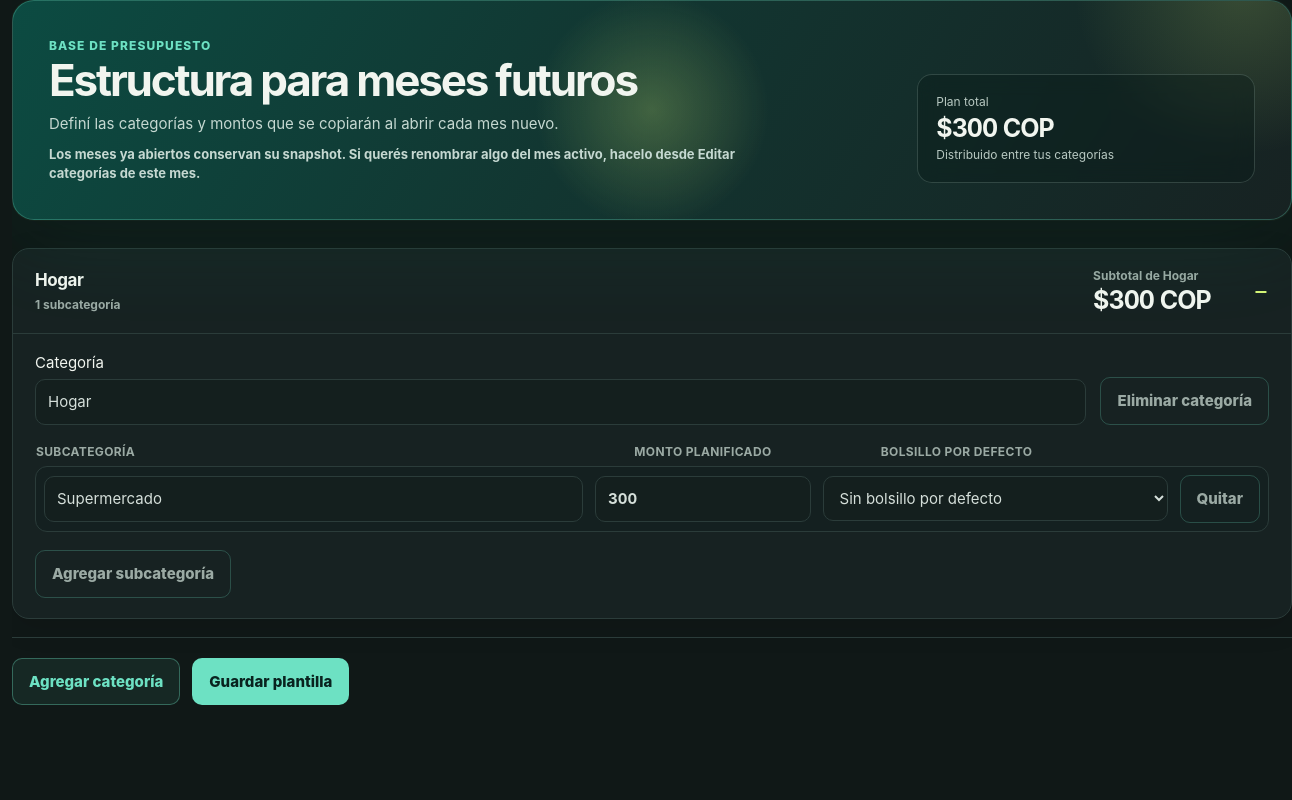
Test: TemplatePage › normalizes leading zeros in planned amounts
Replace the text in the number field named "Monto planificado de Supermercado" with "0124" at (703, 499), box [595,476,811,522]
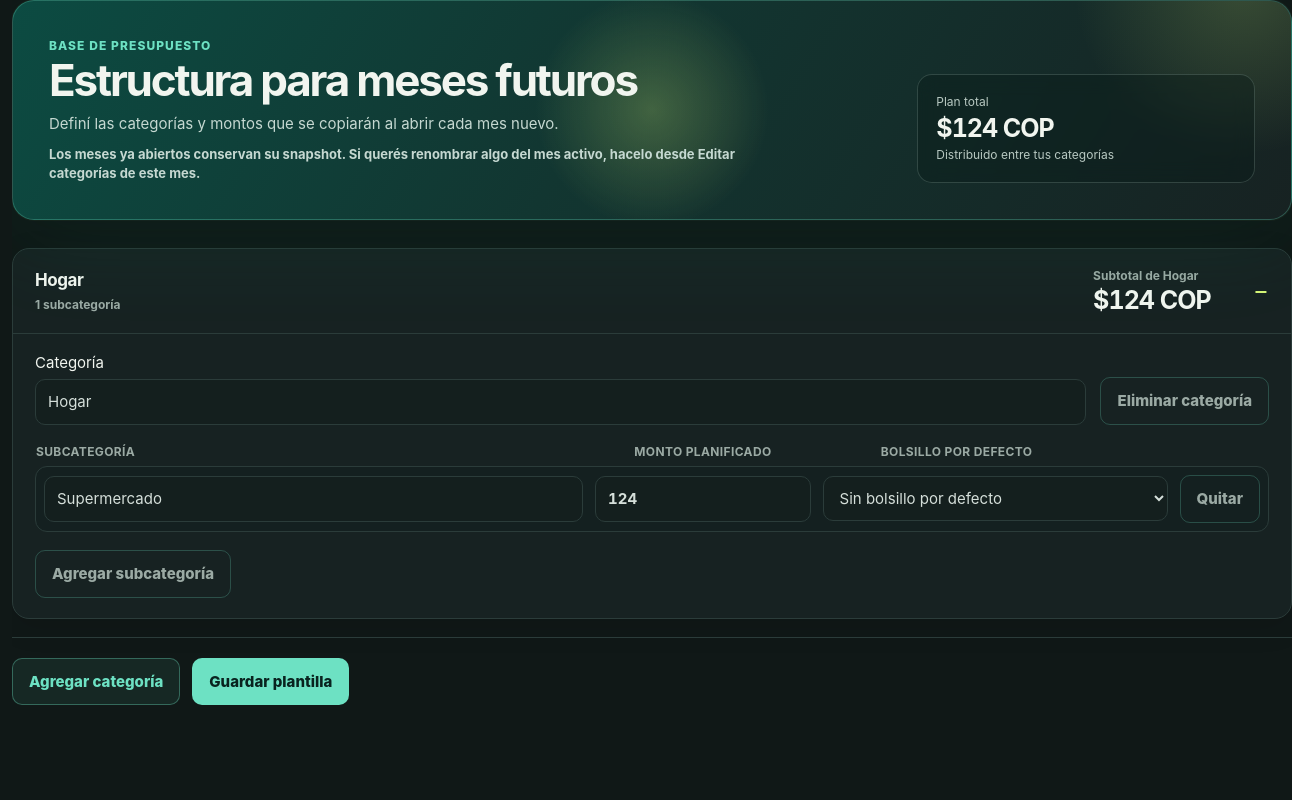
Expected: the number field named "Monto planificado de Supermercado" holds "124"
Replace the text in the number field named "Monto planificado de Supermercado" with "000.50" at (703, 499), box [595,476,811,522]
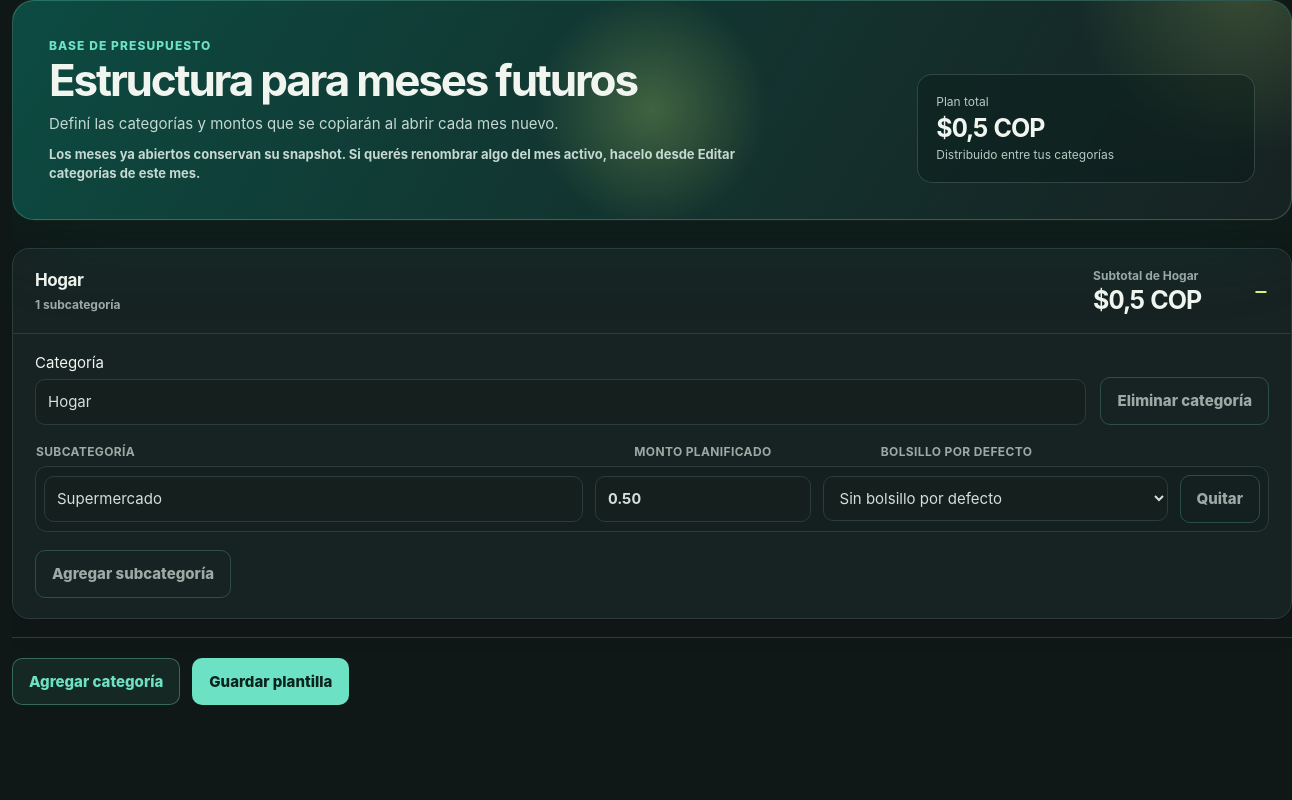
Expected: the number field named "Monto planificado de Supermercado" holds "0.5", [595,476,811,522]
